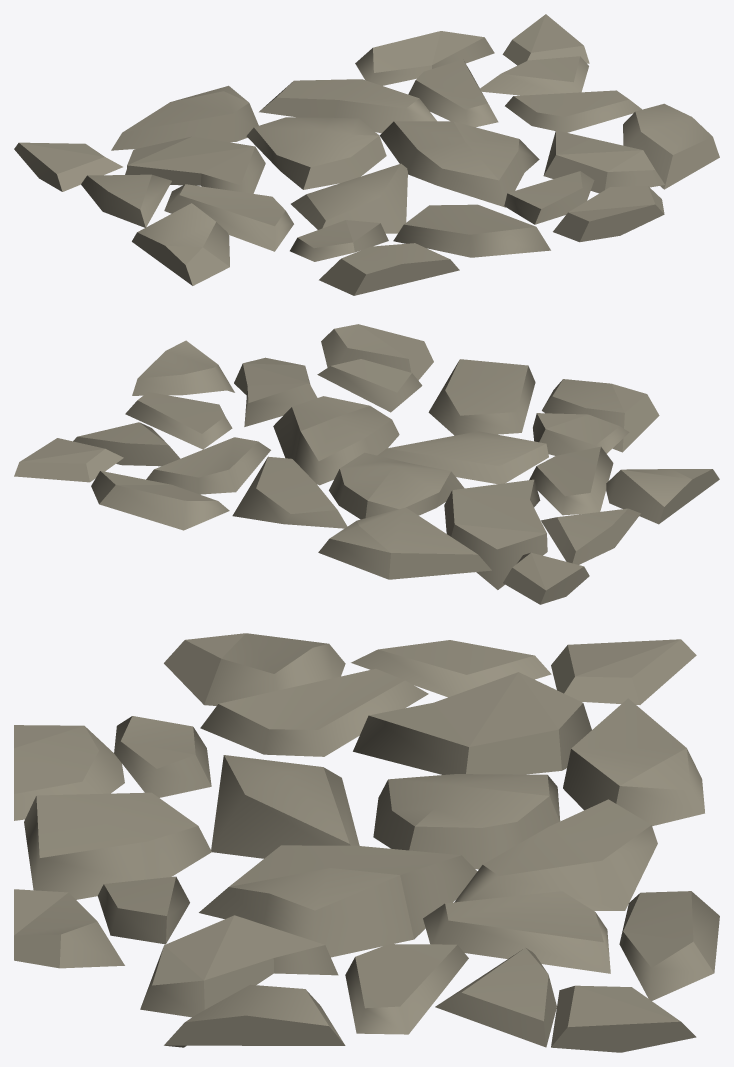
File: Stone_Path_Crossroads_B.glb
3 views of the same model, one above another, from view 1: azimuth 30°, elevation 25°; view 2: azimuth 150°, elevation 25°; view 3: azimuth 270°, elevation 25° (orthographic). The views are drawn at different scales.
Parts seen in each view (by area): view 1: Stone_Path_Crossroads_B; view 2: Stone_Path_Crossroads_B; view 3: Stone_Path_Crossroads_B.
Part boxes in pixels (left/top/right/bottom): Stone_Path_Crossroads_B: left=14, top=14, right=719, bottom=295; Stone_Path_Crossroads_B: left=14, top=324, right=719, bottom=604; Stone_Path_Crossroads_B: left=14, top=633, right=719, bottom=1052.
Size of the model in its own units: 1.47 by 0.1587 by 1.14.
